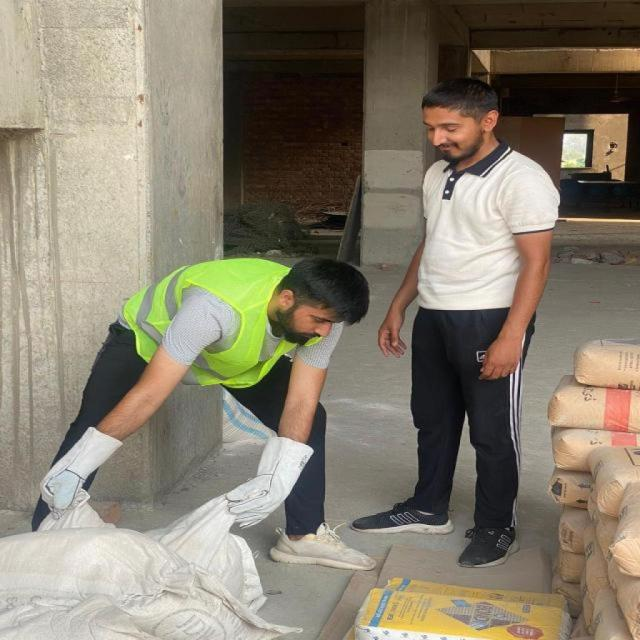Gloves-Detection: (236, 431, 314, 517), (36, 419, 113, 500)
